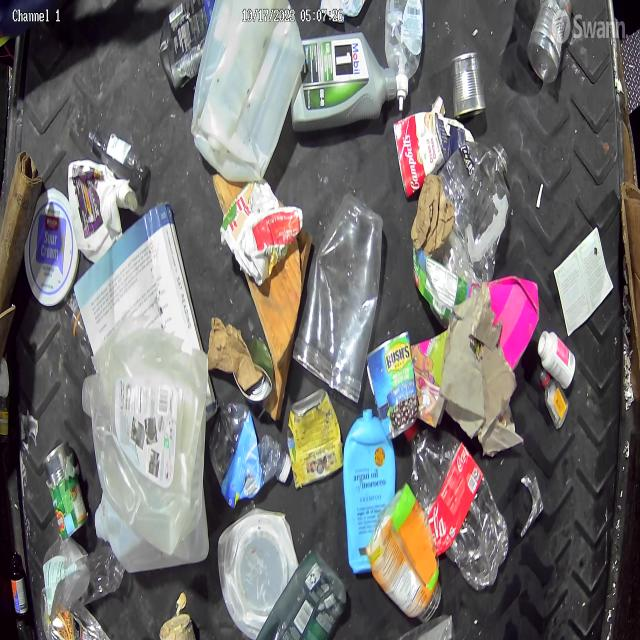can: (366, 328, 419, 439), (286, 388, 342, 489), (394, 111, 447, 201), (44, 438, 88, 542), (232, 337, 274, 402), (451, 48, 485, 119)
milk_jug: (82, 325, 209, 557), (190, 6, 306, 186)
non_white_jug: (293, 31, 397, 133), (342, 411, 395, 571)
plastic_bottle: (403, 422, 509, 585), (384, 2, 426, 96)
